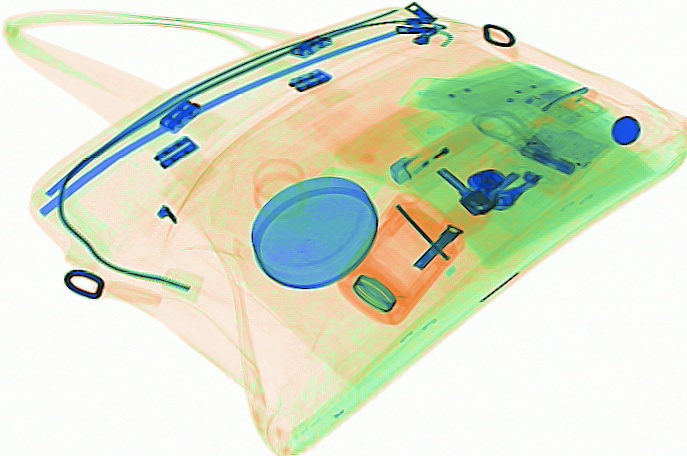lighter: (386, 110, 496, 185)
